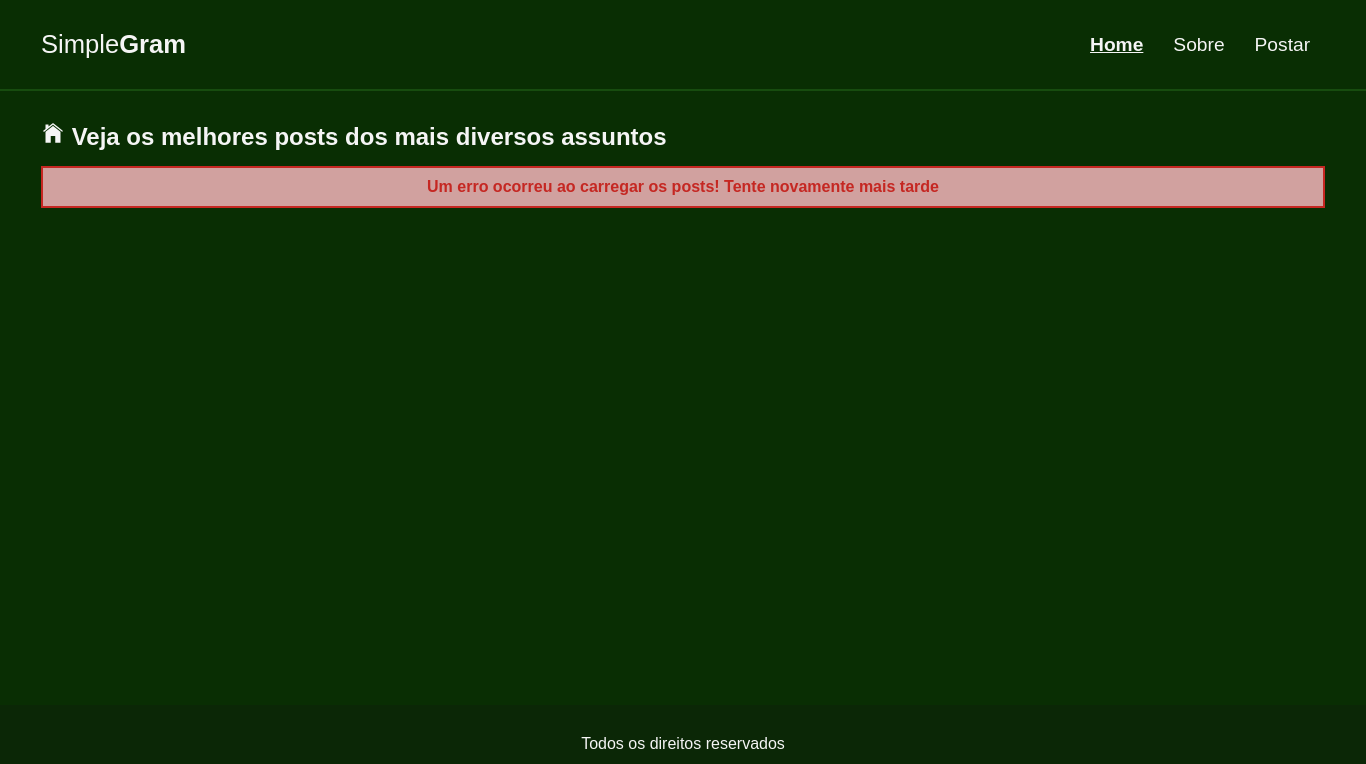
Test: CreatePost Page › should show required error for empty values
The image size is (1366, 764).
Click the link to "/posts/create": (1283,45) left=1255, top=34, right=1311, bottom=55
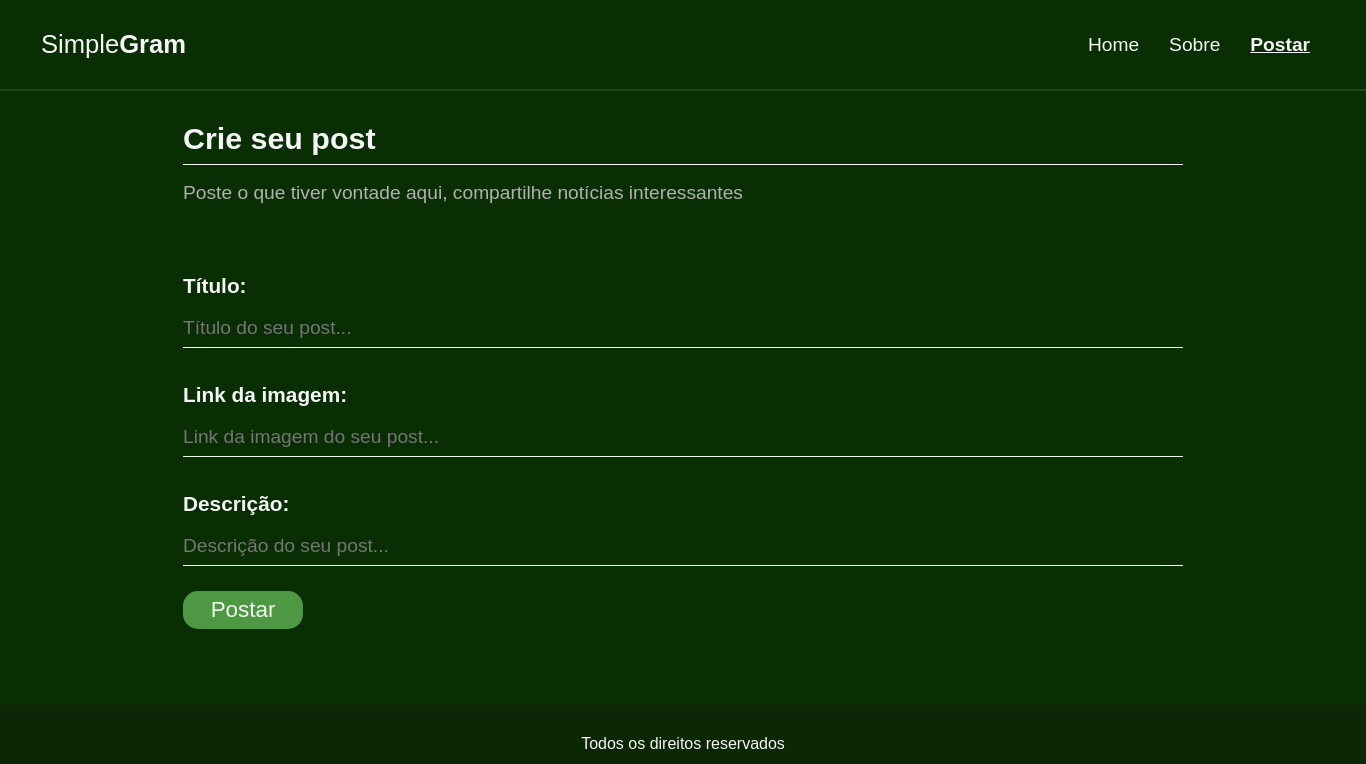
Click the button "Postar": (243,610) left=183, top=591, right=303, bottom=629
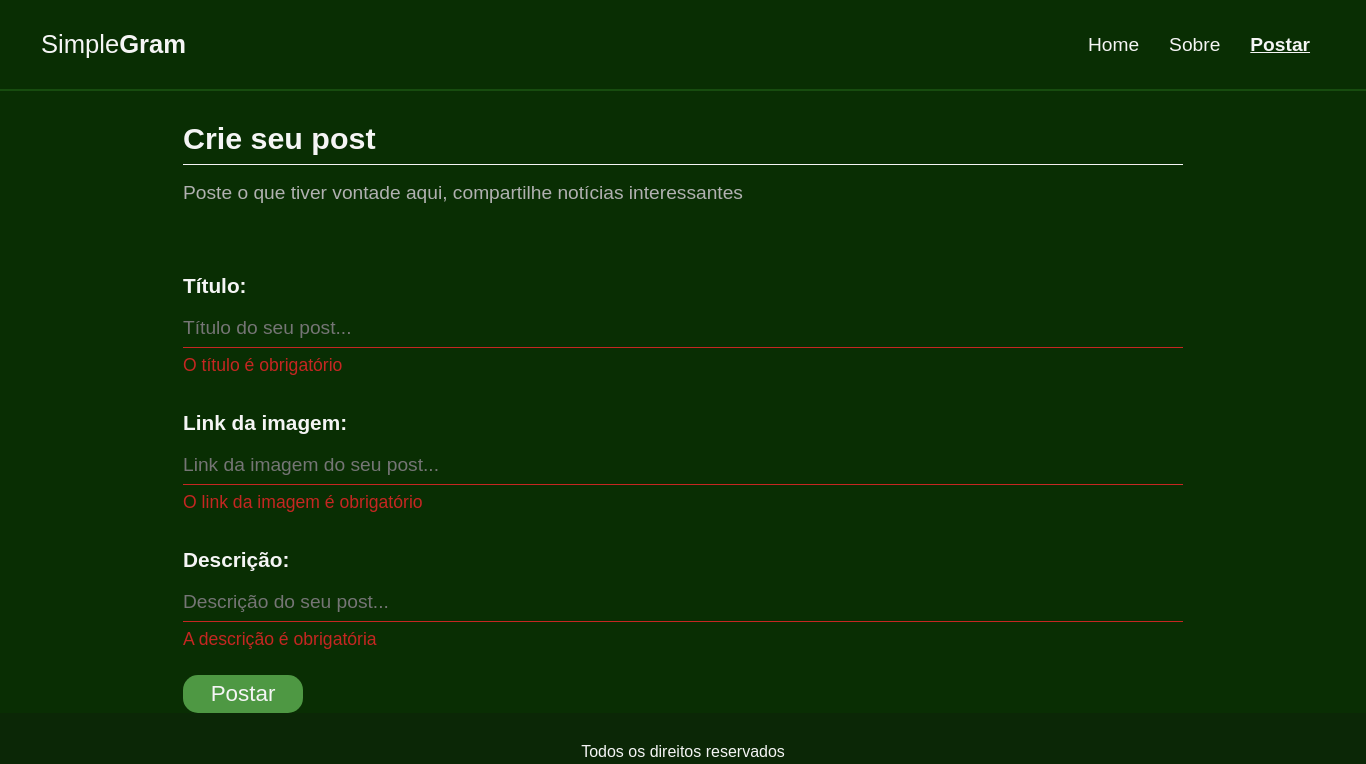
expect the number of elements with test id "error_form" is 3: met, box left=183, top=355, right=342, bottom=375; left=183, top=492, right=423, bottom=512; left=183, top=629, right=377, bottom=649
expect the text "O título é obrigatório" is shown: met, box left=183, top=355, right=342, bottom=375
expect the text "O link da imagem é obrigatório" is shown: met, box left=183, top=492, right=423, bottom=512
